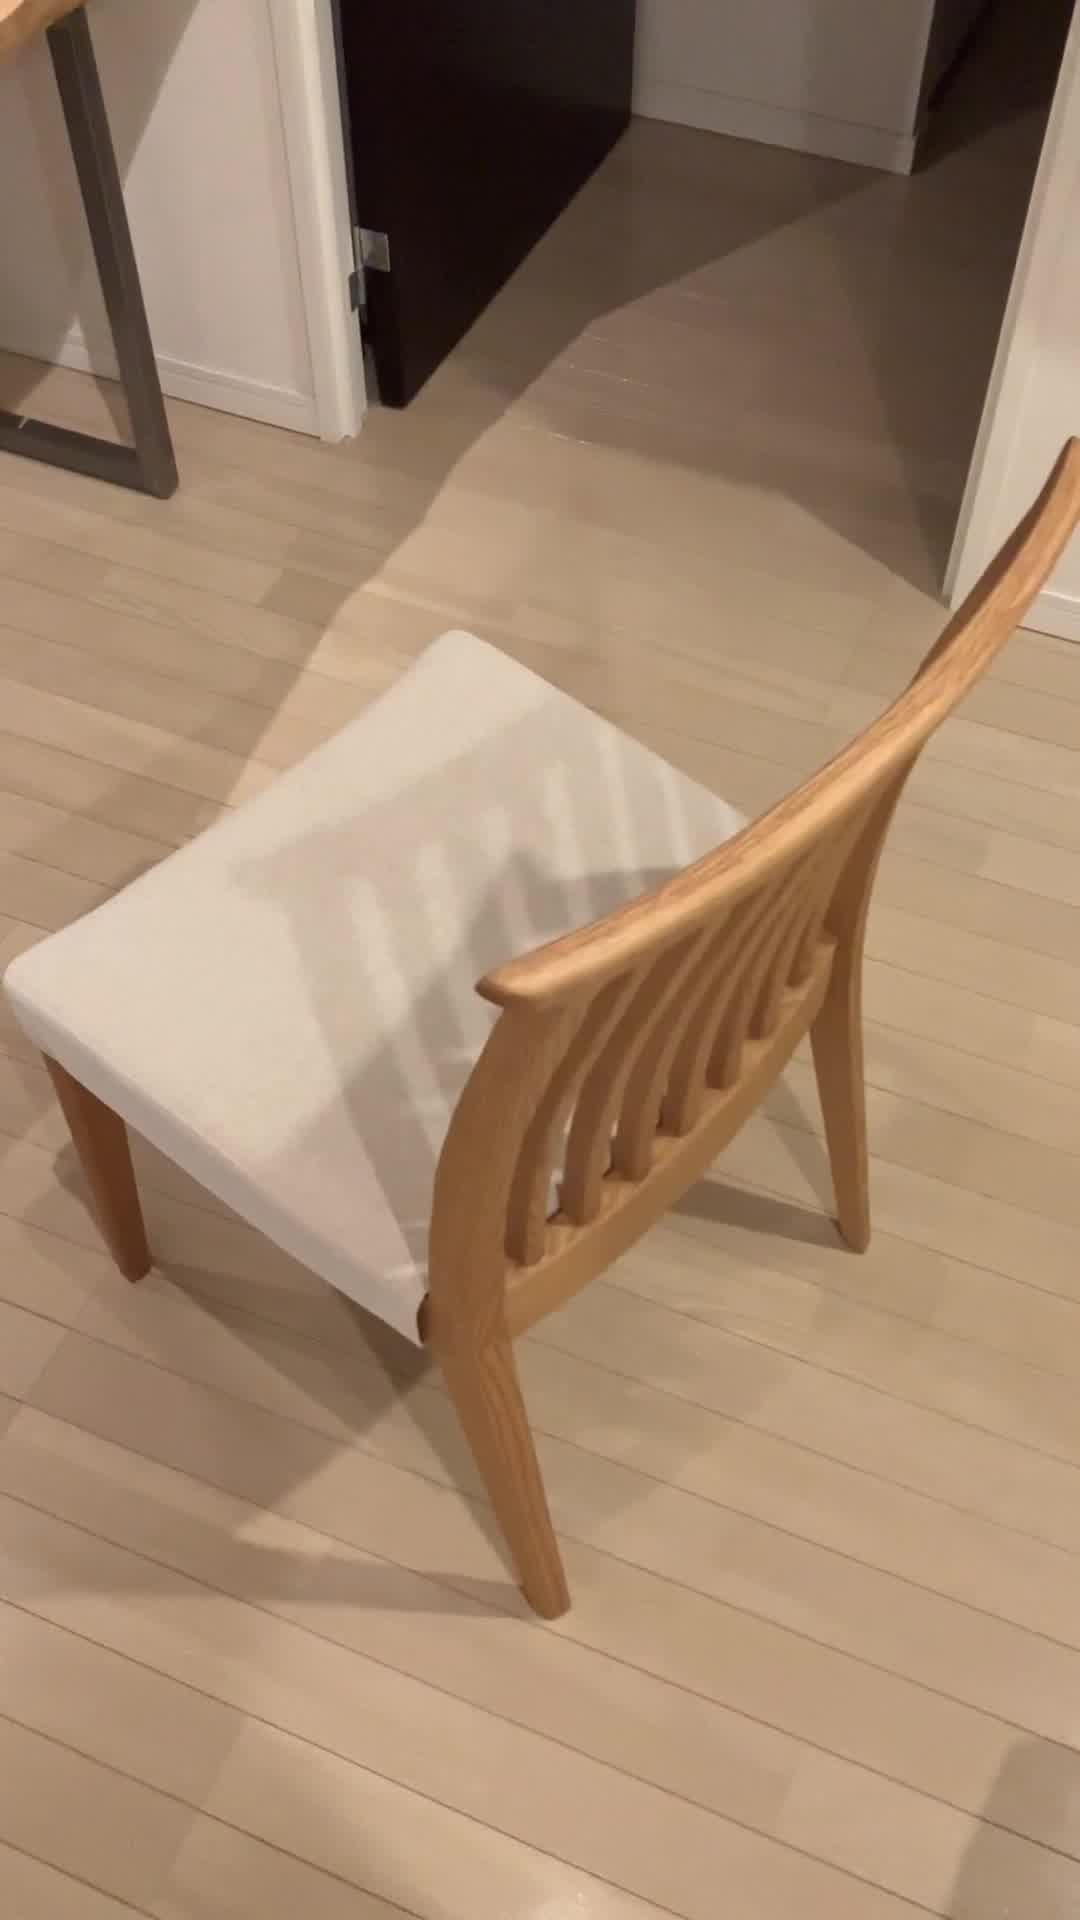takumikan-chair: (0, 433, 1080, 1627)
